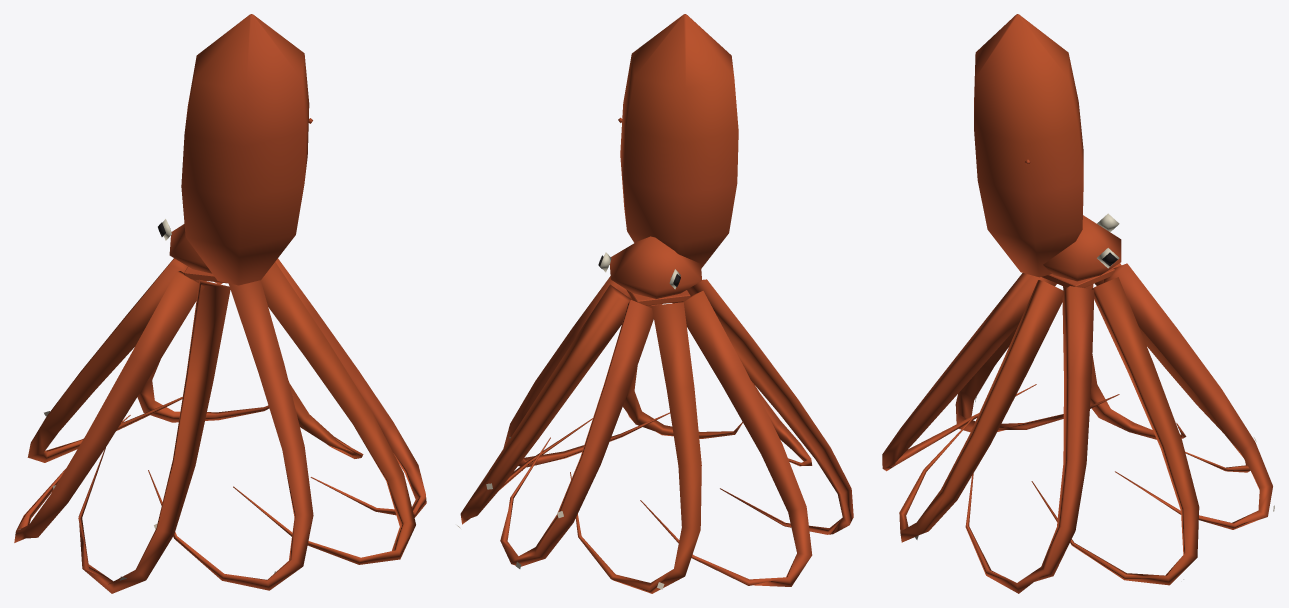
File: fish_giant_octopus_low.glb
The picture shows the model from 3 angles, left to right: view 1: azimuth 30°, elevation 25°; view 2: azimuth 150°, elevation 25°; view 3: azimuth 270°, elevation 25°; orthographic projection. The views are drawn at different scales.
Bounding box in the file's own units: 1 × 1.39 × 0.9943.
